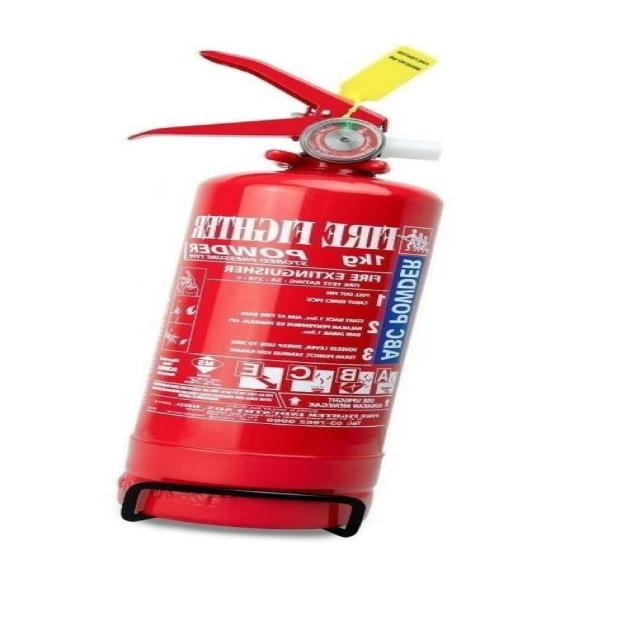fire_extinguisher: (104, 42, 462, 536)
